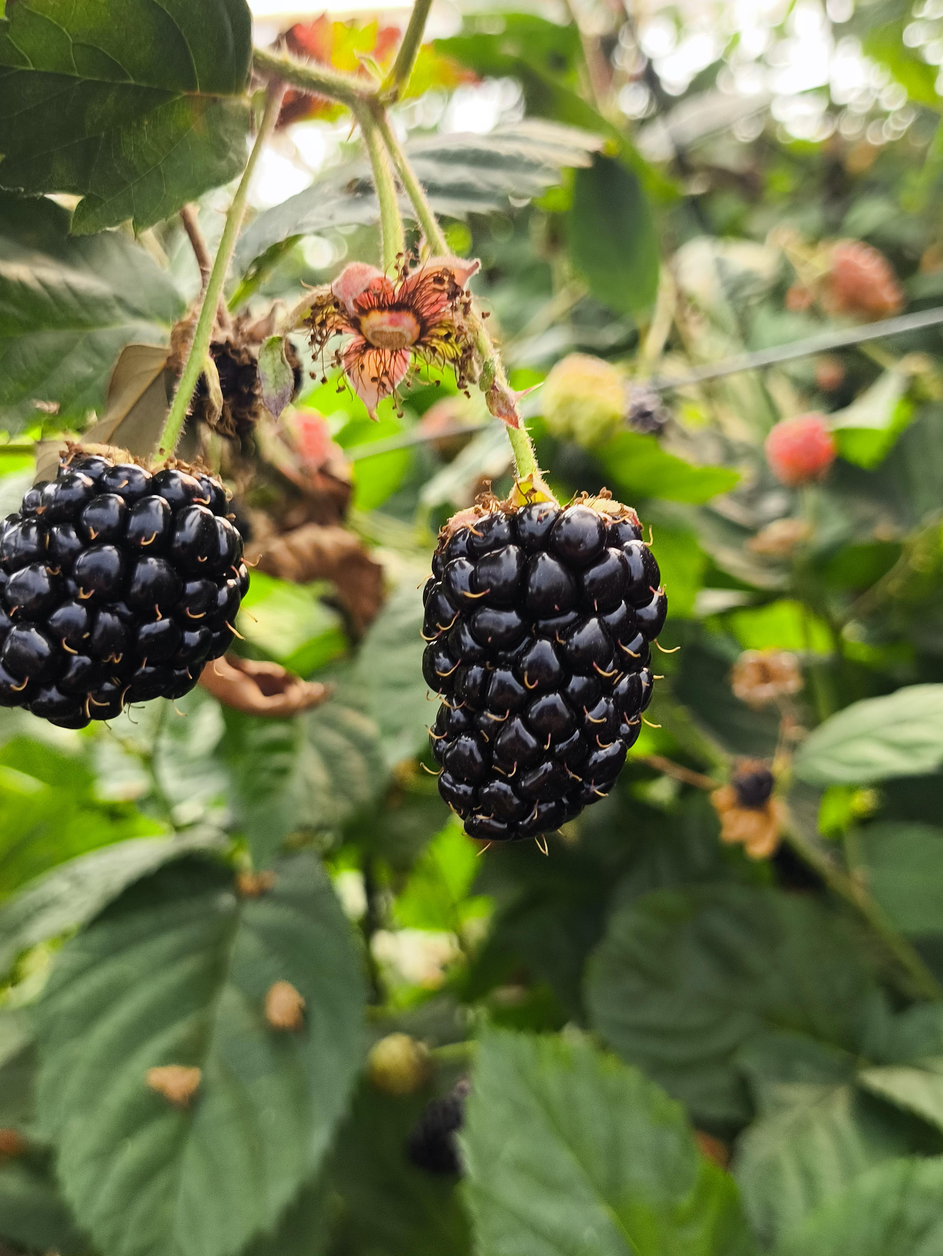maduro: (430, 500, 661, 834), (0, 447, 242, 724)
